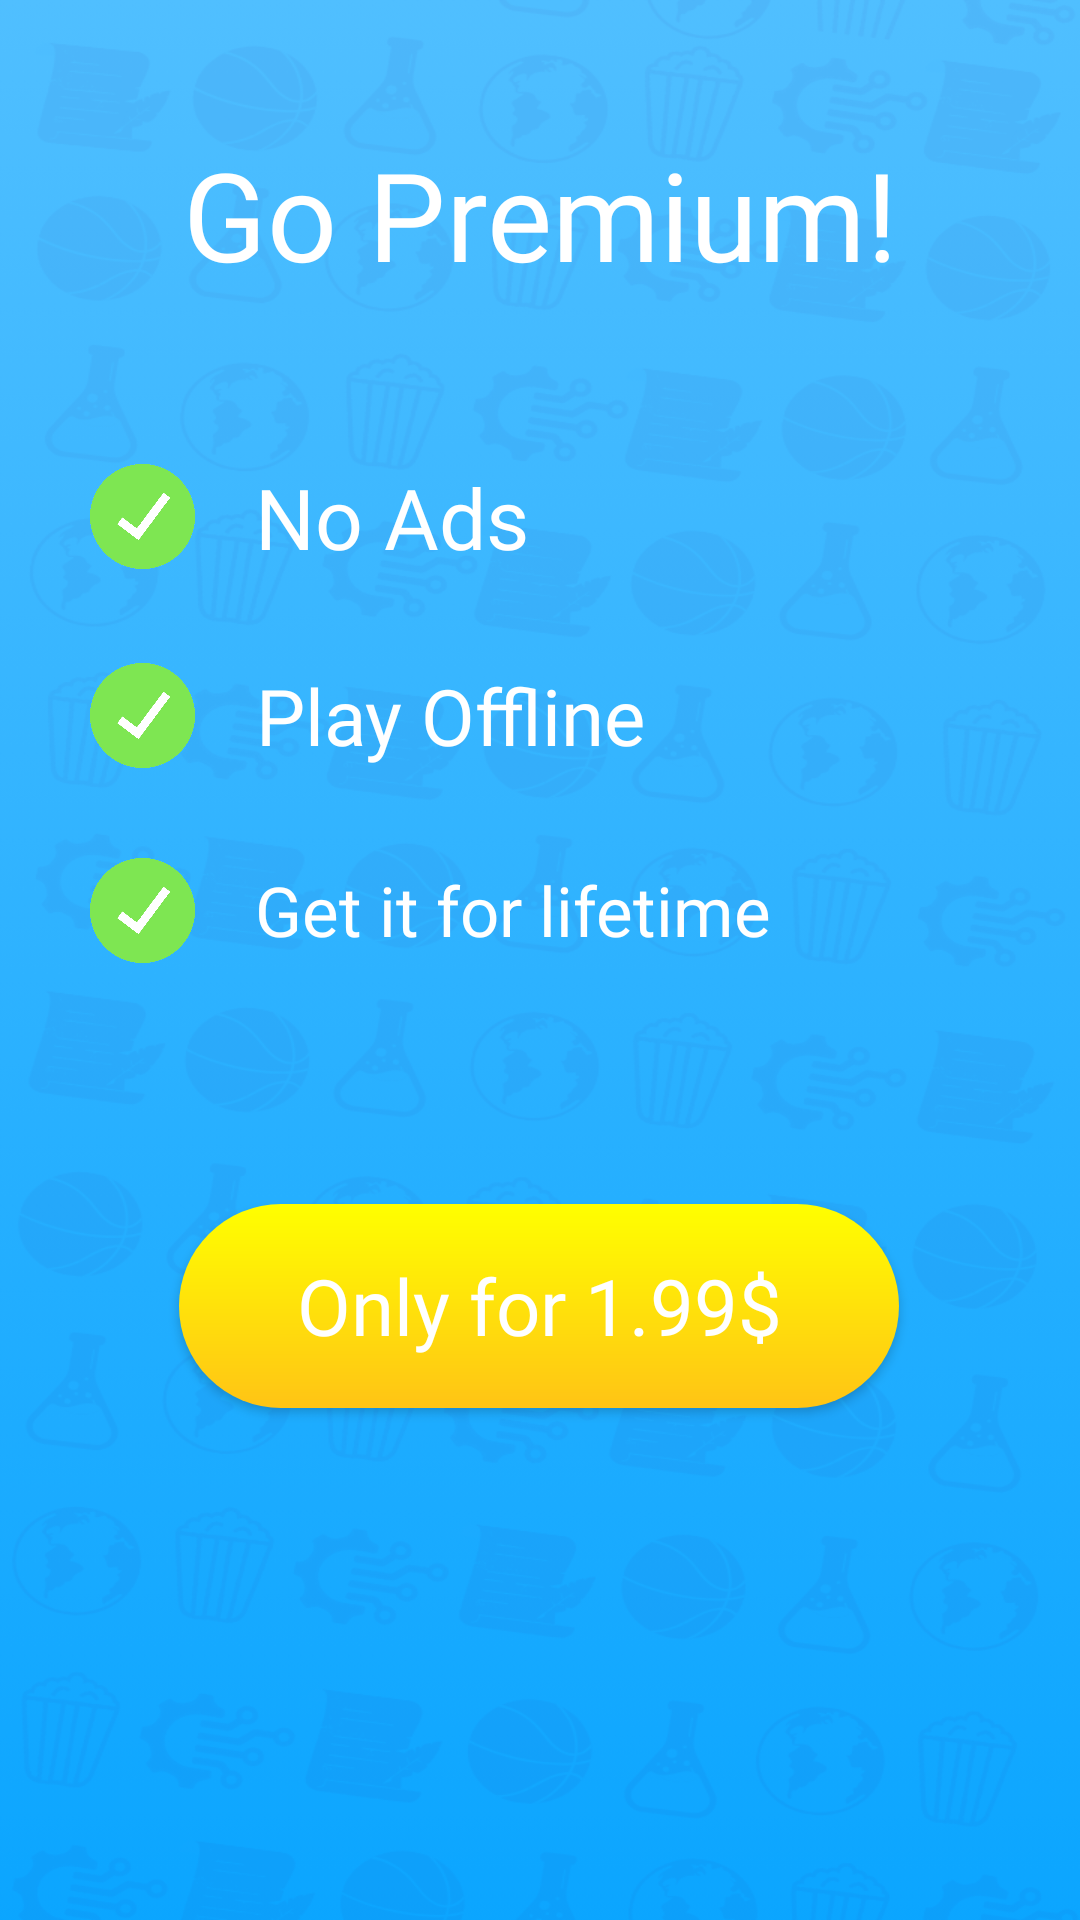

Screen size 1080px×1920px. Icon name, then its center in pixels as [x,y]:
yes: [142,516], [142,715], [142,910]
